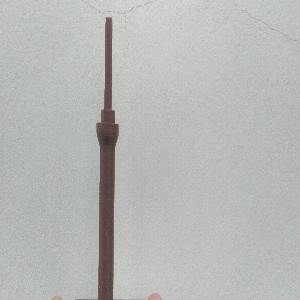obeng: (95, 16, 120, 300)
